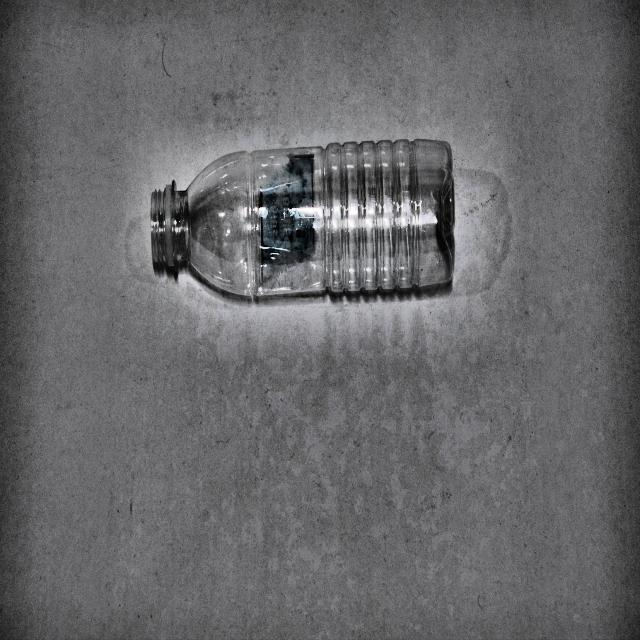plastic bottle: (150, 138, 455, 297)
